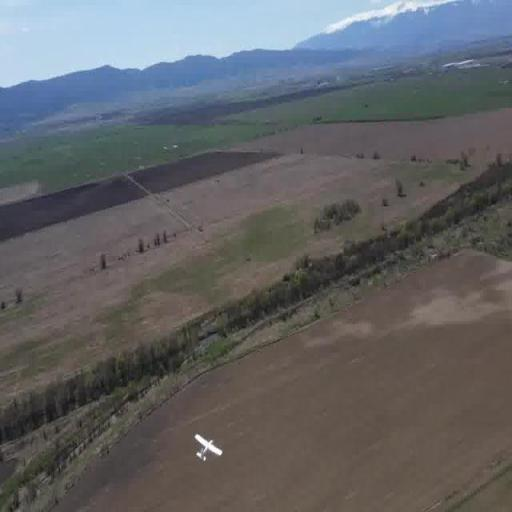uav: (191, 425, 224, 469)
